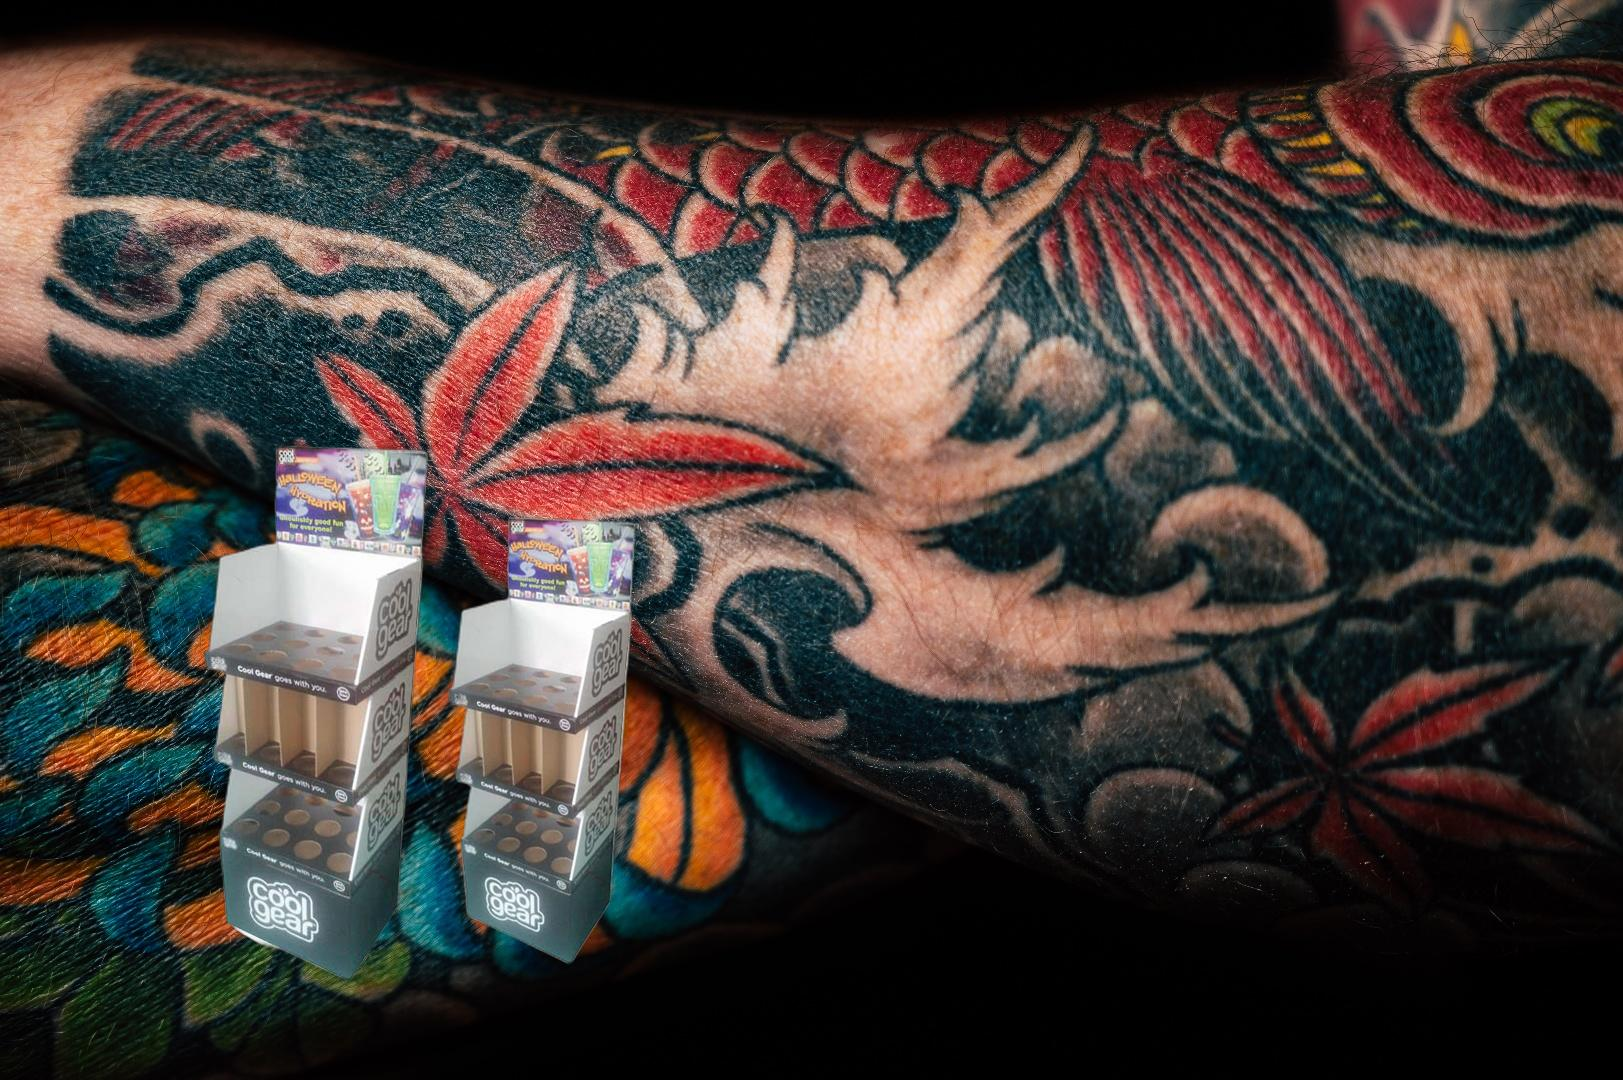trashbox-cardboard: (81, 431, 651, 1007)
